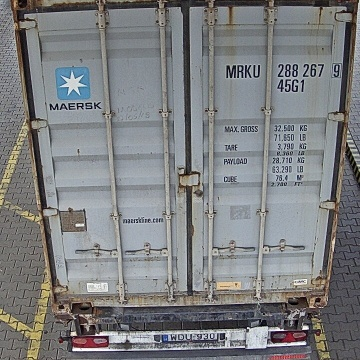serial_id: (226, 62, 341, 77)
